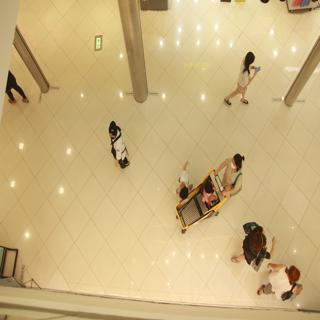person: (99, 115, 142, 174), (213, 142, 250, 209), (257, 261, 303, 307), (230, 42, 260, 112), (232, 220, 272, 270)
